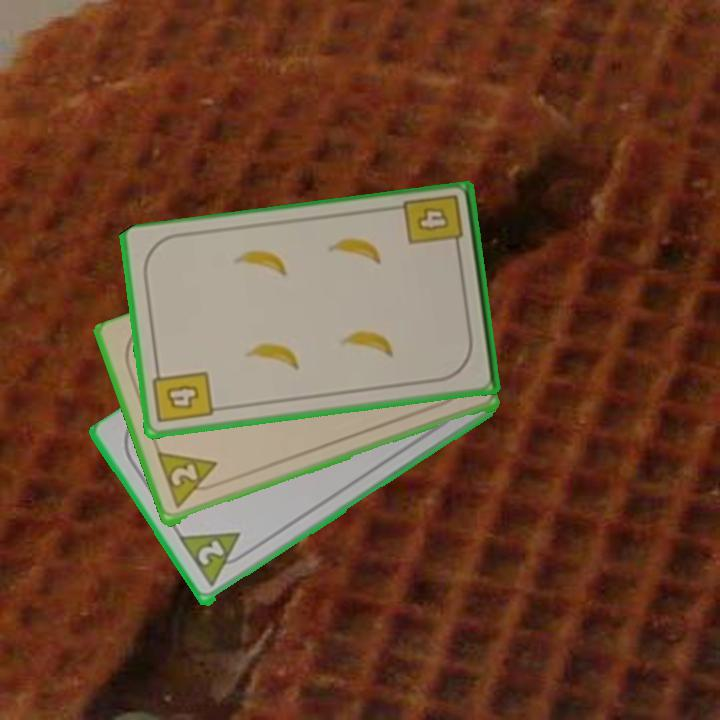2p: (176, 528, 254, 591), (153, 449, 225, 512)
4b: (401, 191, 467, 257), (150, 364, 216, 426)
